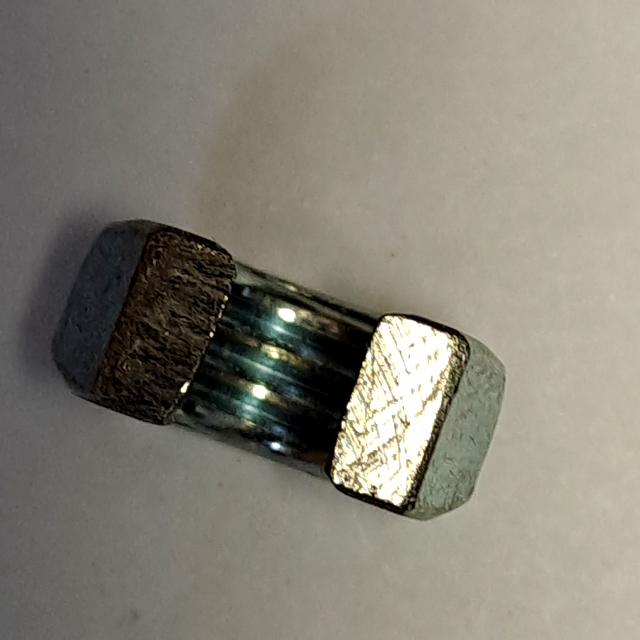Side-Fracture: (34, 207, 513, 536)
